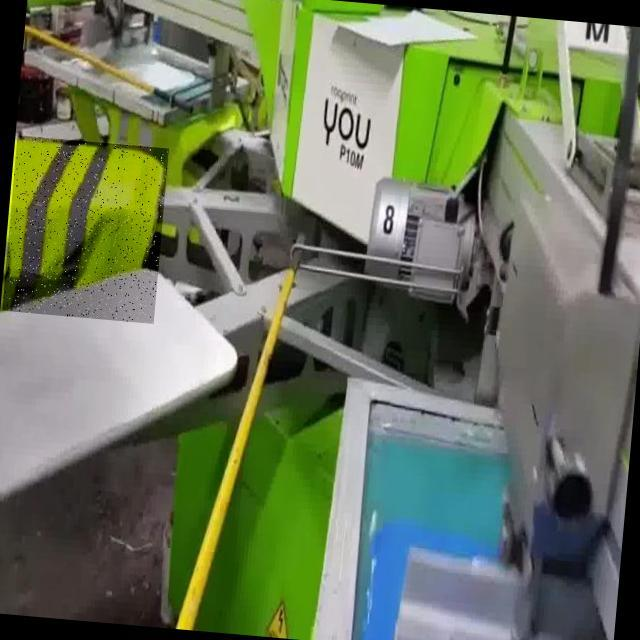Safety Vest: (2, 135, 169, 324)
